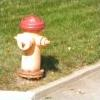a fire hydrant: (16, 16, 48, 76)
